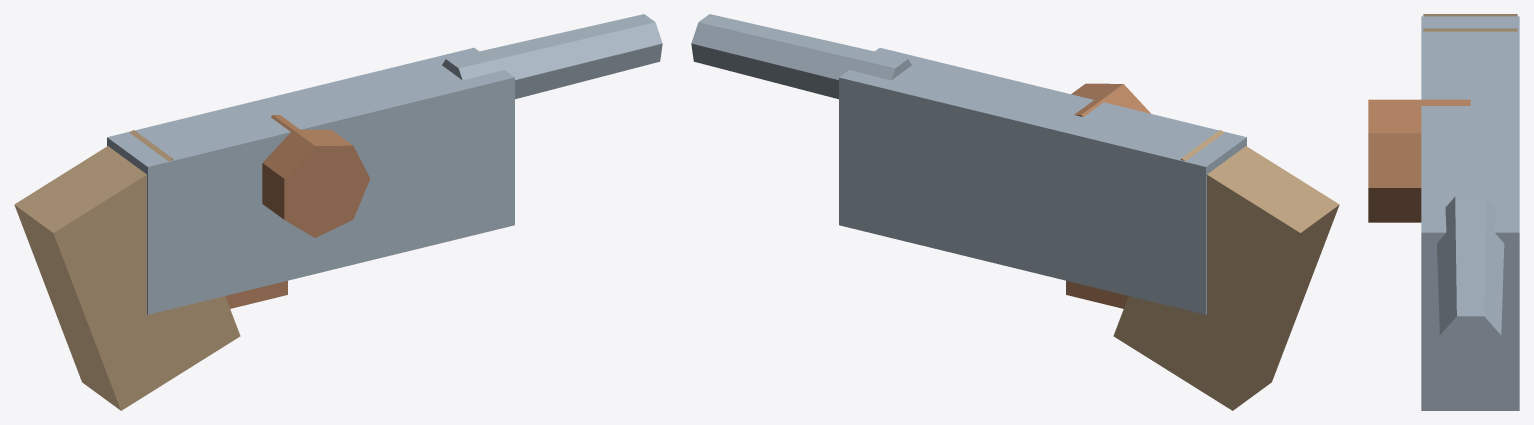
File: wipe-day-survival-island-makeshift-pistol-ab879b46__27488.glb
The picture shows the model from 3 angles, left to right: view 1: azimuth 30°, elevation 25°; view 2: azimuth 150°, elevation 25°; view 3: azimuth 270°, elevation 25°; orthographic projection. The views are drawn at different scales.
Parts seen in each view (by area): view 1: makeshift-pistol; view 2: makeshift-pistol; view 3: makeshift-pistol.
Part boxes in pixels (x1,y1,x2,y2): makeshift-pistol: (14, 14, 662, 410); makeshift-pistol: (691, 14, 1339, 410); makeshift-pistol: (1368, 14, 1519, 410).
Size of the model in its own units: 0.4363 by 0.1674 by 0.077.
